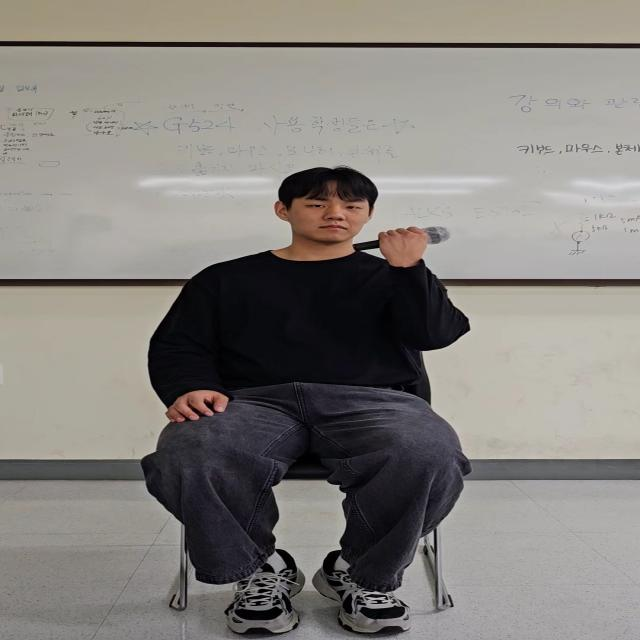curl: (368, 230, 458, 352)
none: (146, 270, 225, 402)
